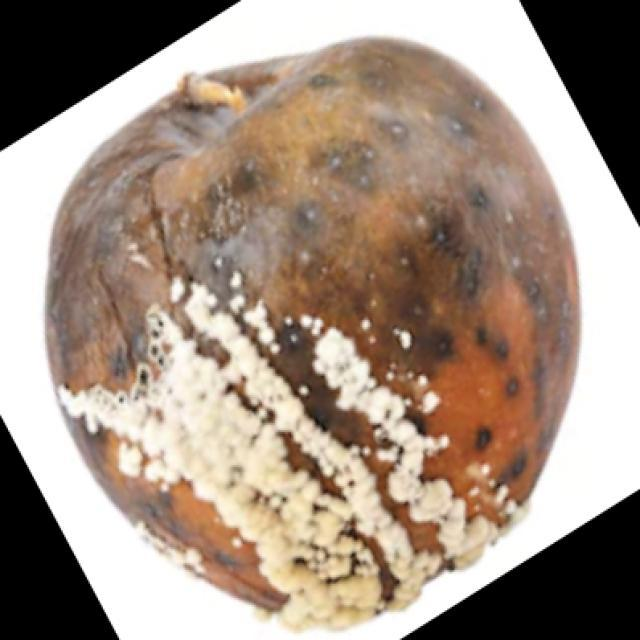Rotten: (54, 43, 574, 607)
